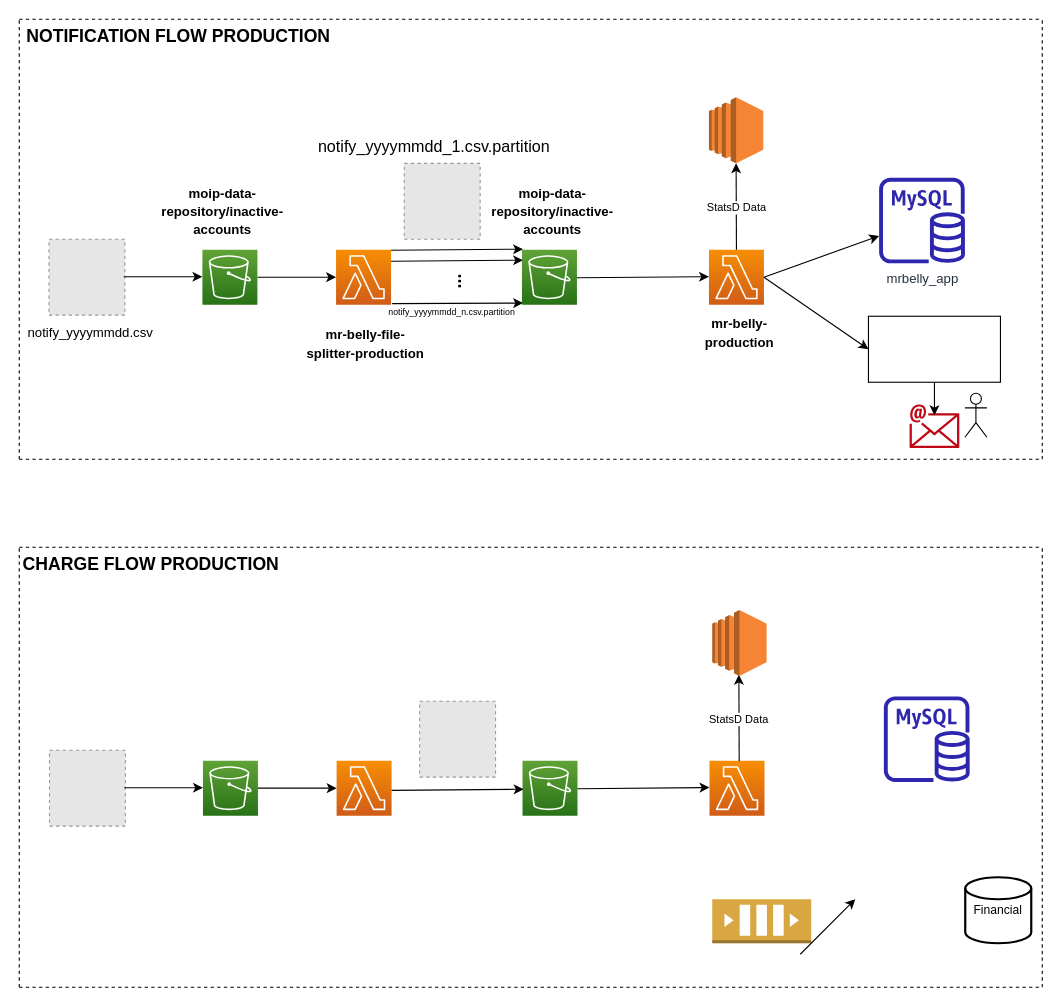
Image size: 1063x1008. Some labels were removed from this diagram. Grey dashed boxes stand in for pictures. The shapes that lost their labels are listed below. From the top down, each one's centre as x and y in pixels, then its label:
(933,348): Mandril App
(975,414): User
